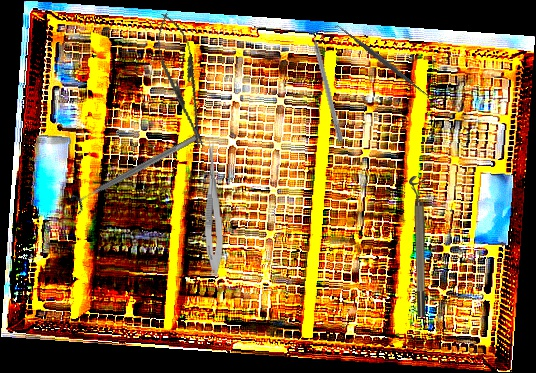Fixation Ring: (67, 126, 204, 216), (409, 176, 428, 317)
Micro Scissor: (199, 139, 226, 276)
Needle Holder: (148, 9, 216, 151)
Pusher: (308, 22, 345, 143)
Spatula Surgical: (331, 17, 438, 106)
